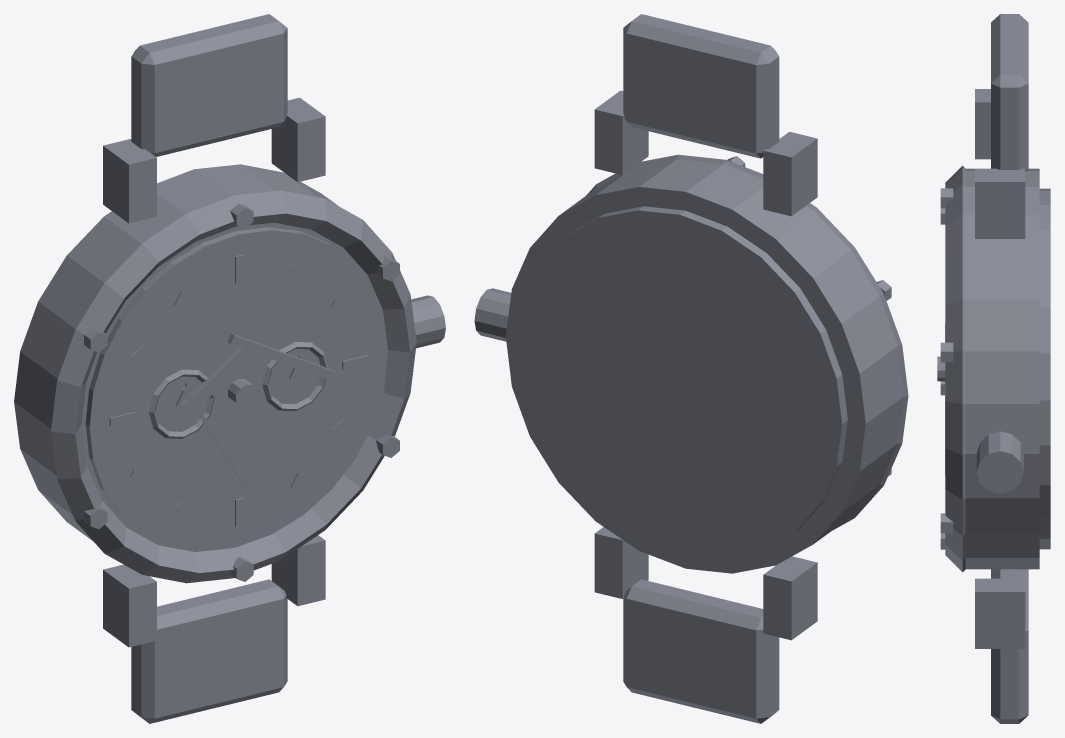
The model's file is rlj_bigbang.fbx.
3 renders of one model, left to right at view 1: azimuth 30°, elevation 25°; view 2: azimuth 150°, elevation 25°; view 3: azimuth 270°, elevation 25°, orthographic. The views are drawn at different scales.
Parts seen in each view (by area): view 1: Caja__esmalte_negro, Esfera__esmalte_negro, Esfera__metal_acero, Manecillas__metal_acero, Caja__metal_acero; view 2: Caja__esmalte_negro; view 3: Caja__esmalte_negro, Caja__metal_acero.
Part boxes in pixels (x1,y1,x2,y2): Caja__esmalte_negro: (14,14,445,723); Esfera__esmalte_negro: (85,227,387,550); Esfera__metal_acero: (109,254,368,526); Manecillas__metal_acero: (181,333,336,415); Caja__metal_acero: (84,203,399,581); Caja__esmalte_negro: (474,14,908,723); Caja__esmalte_negro: (945,14,1050,723); Caja__metal_acero: (940,188,953,549).
Bounding box in the file's own units: 143 × 228 × 36.
